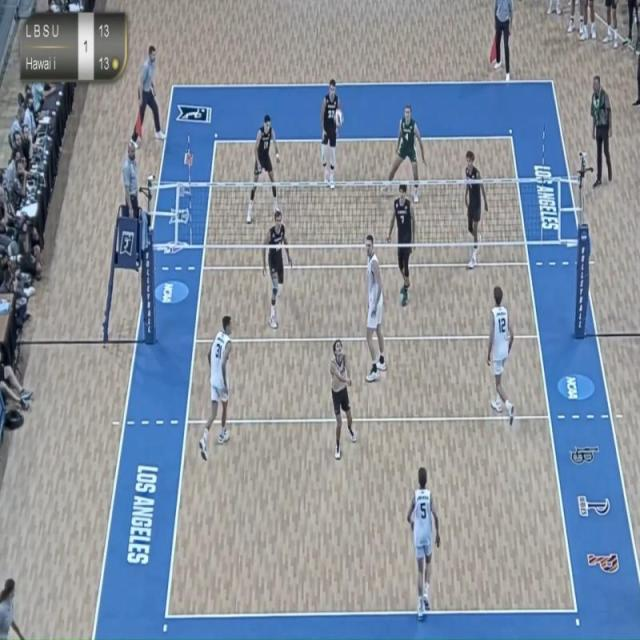volleyball: (331, 105, 346, 131)
